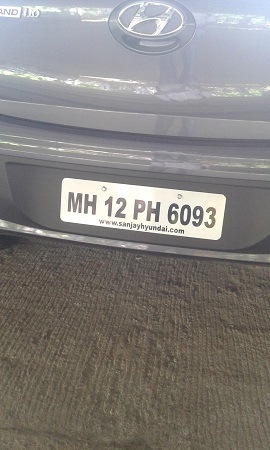licenseplate: (58, 175, 228, 242)
